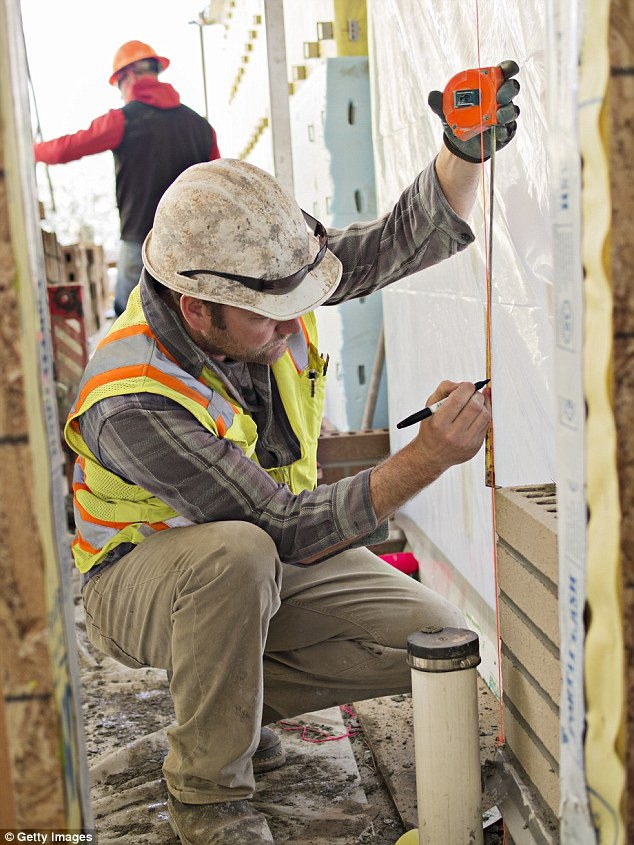SAFE: (71, 164, 334, 599)
